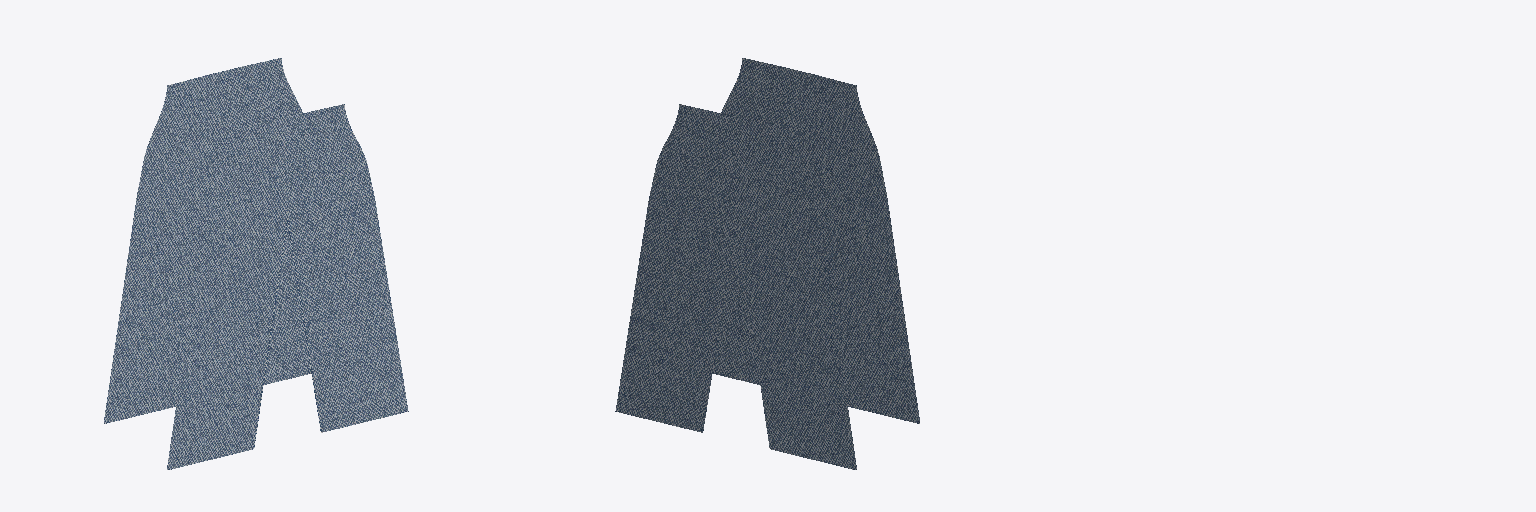
3 views of the same model, side by side, from view 1: azimuth 30°, elevation 25°; view 2: azimuth 150°, elevation 25°; view 3: azimuth 270°, elevation 25° (orthographic).
Parts seen in each view (by area): view 1: Plane_Plane.003; view 2: Plane_Plane.003; view 3: none.
Part boxes in pixels (x1,y1,x2,y2): Plane_Plane.003: (104,58,408,469); Plane_Plane.003: (615,58,919,469).
Size of the model in its own units: 7.33 by 9.38 by 3.32.
1 materials, 1 textured.